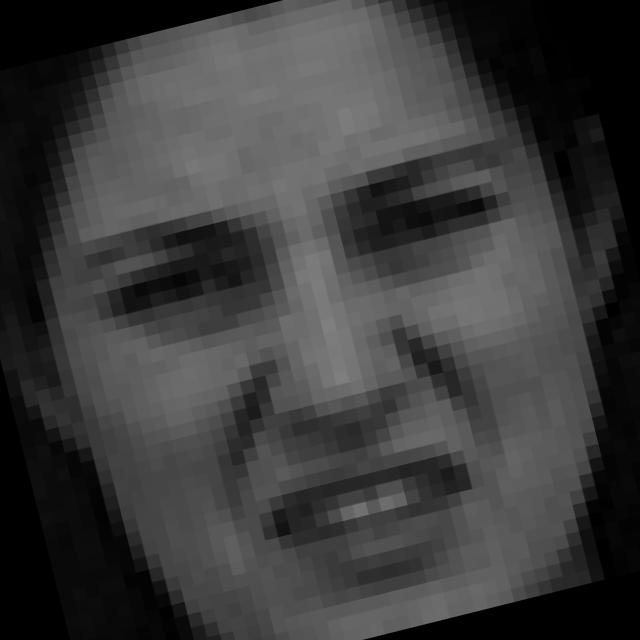disgust: (62, 125, 616, 640)
